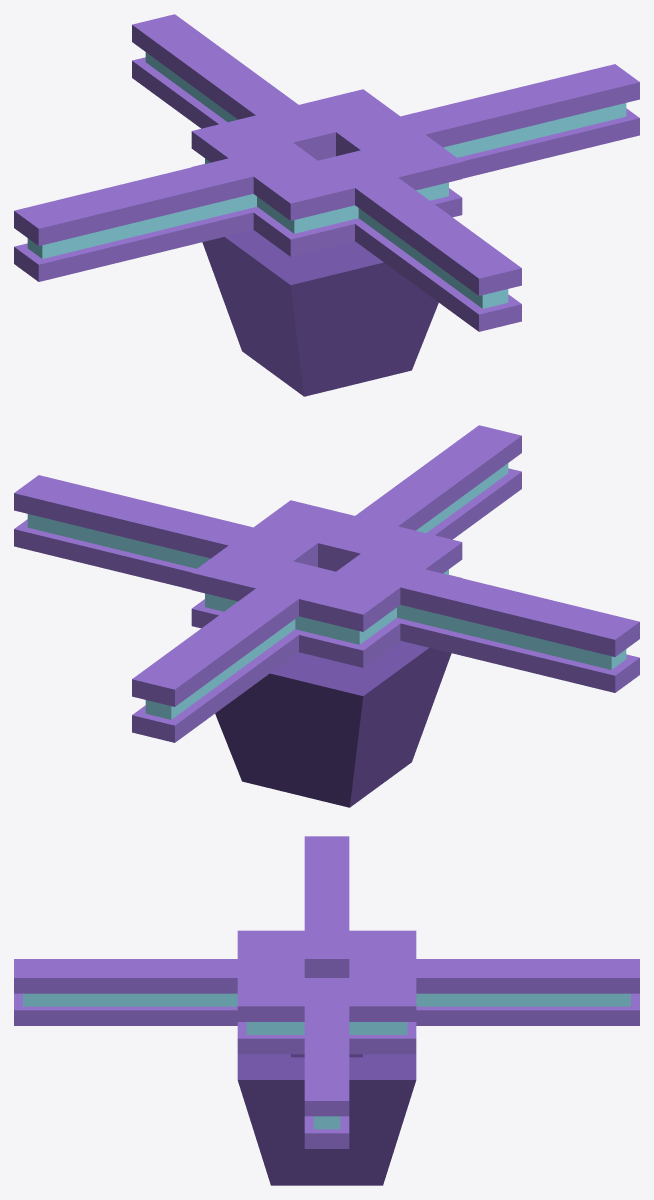
File: MAP_4Paths.fbx
3 views of the same model, one above another, from view 1: azimuth 30°, elevation 25°; view 2: azimuth 150°, elevation 25°; view 3: azimuth 270°, elevation 25° (orthographic). The views are drawn at different scales.
Parts seen in each view (by area): view 1: Cube, Cube.001; view 2: Cube, Cube.001; view 3: Cube, Cube.001.
Part boxes in pixels (left/top/right/bottom): Cube: left=14, top=14, right=639, bottom=331; Cube.001: left=202, top=229, right=438, bottom=396; Cube: left=14, top=425, right=639, bottom=742; Cube.001: left=215, top=640, right=451, bottom=807; Cube: left=14, top=836, right=639, bottom=1148; Cube.001: left=237, top=1054, right=416, bottom=1185.
Bounding box in the file's own units: 7000 × 2386 × 7000.
